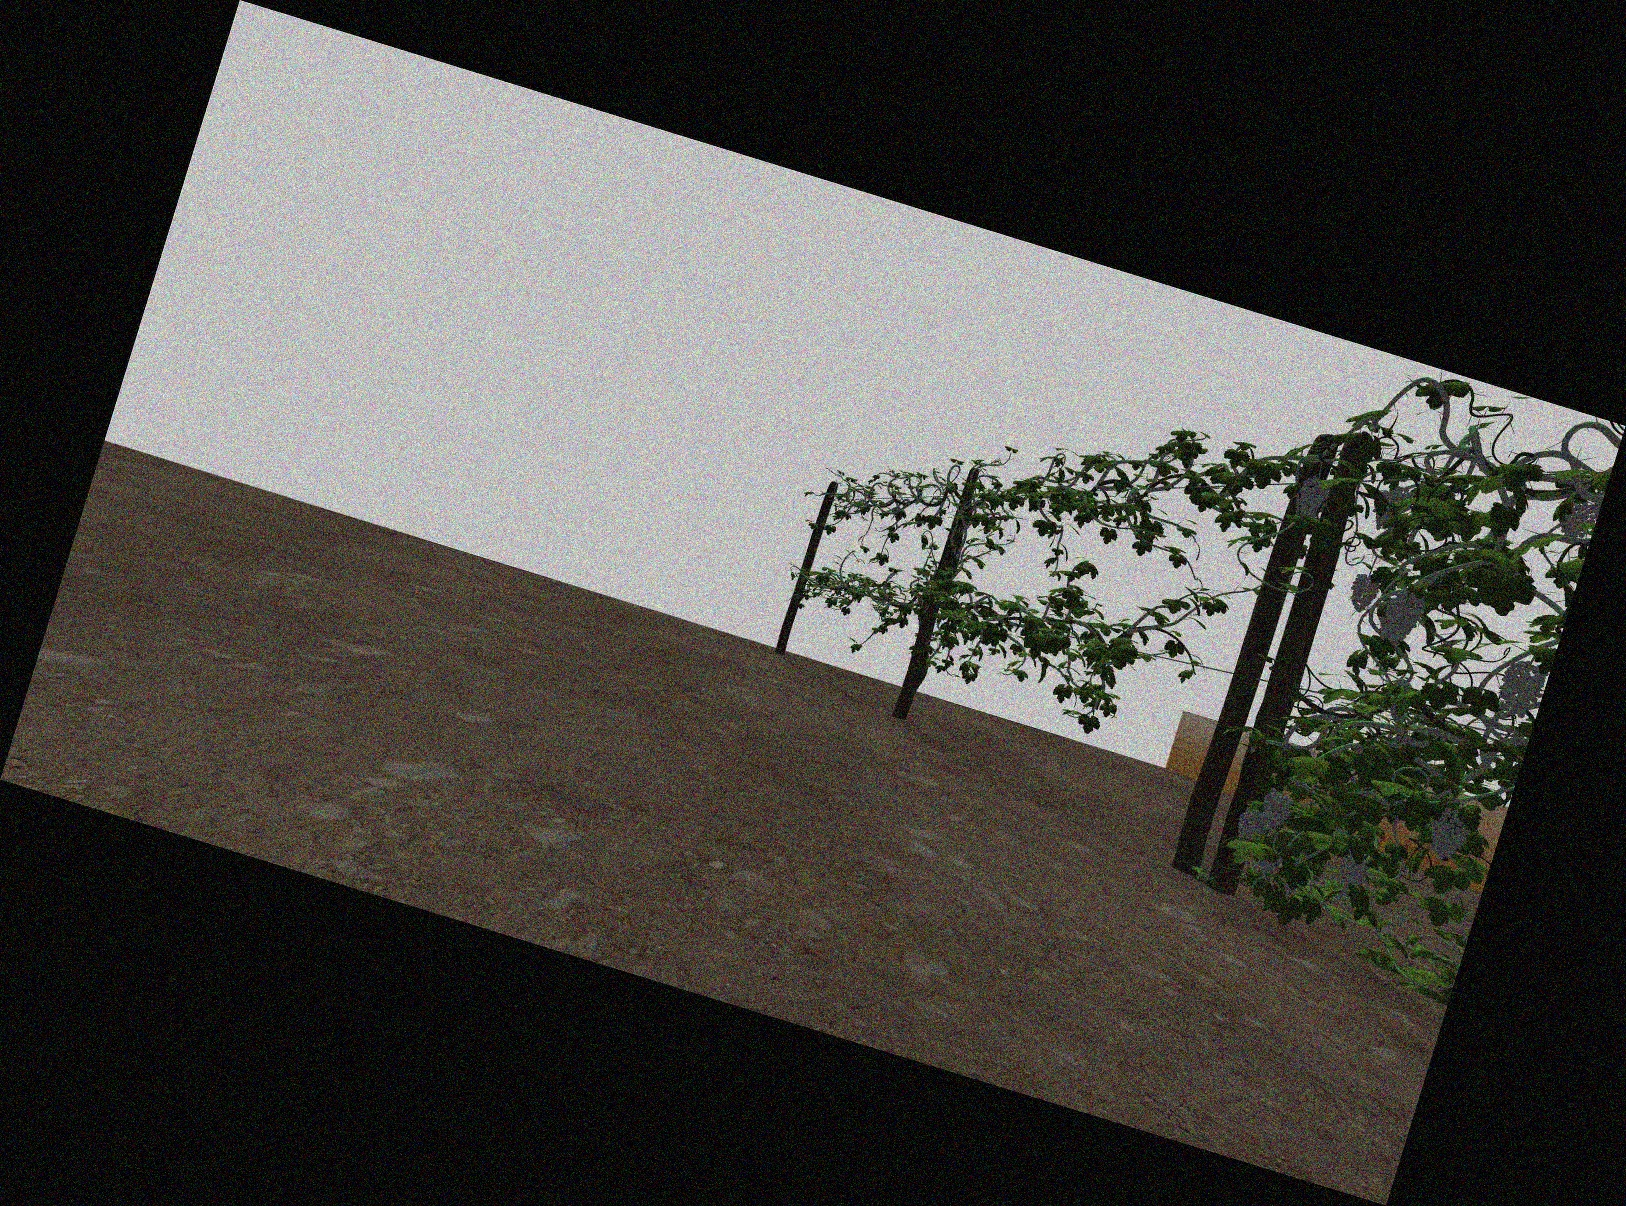grape: (1501, 657, 1540, 714), (1428, 809, 1468, 860), (1385, 592, 1420, 647), (1297, 476, 1326, 518), (1260, 790, 1290, 830), (1350, 574, 1378, 614), (1564, 502, 1592, 541), (1336, 856, 1368, 891), (1236, 808, 1259, 839)
